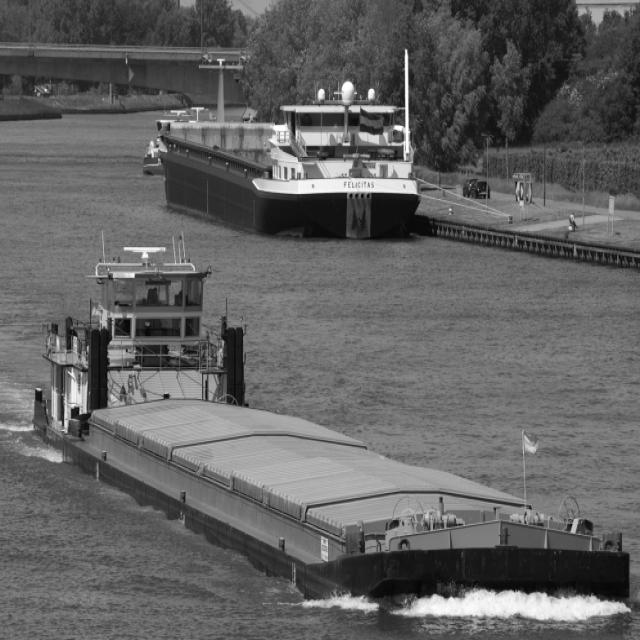tugboat: (32, 241, 257, 478)
